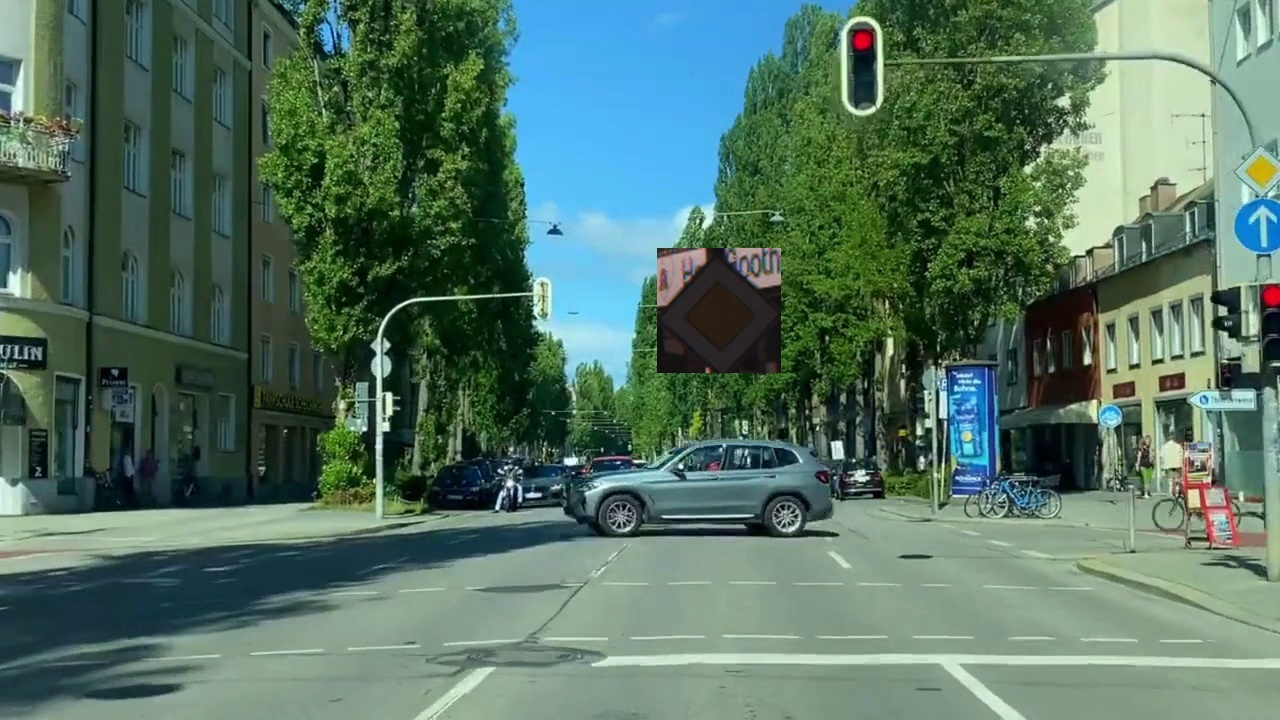Priority road: (657, 248, 781, 373)
